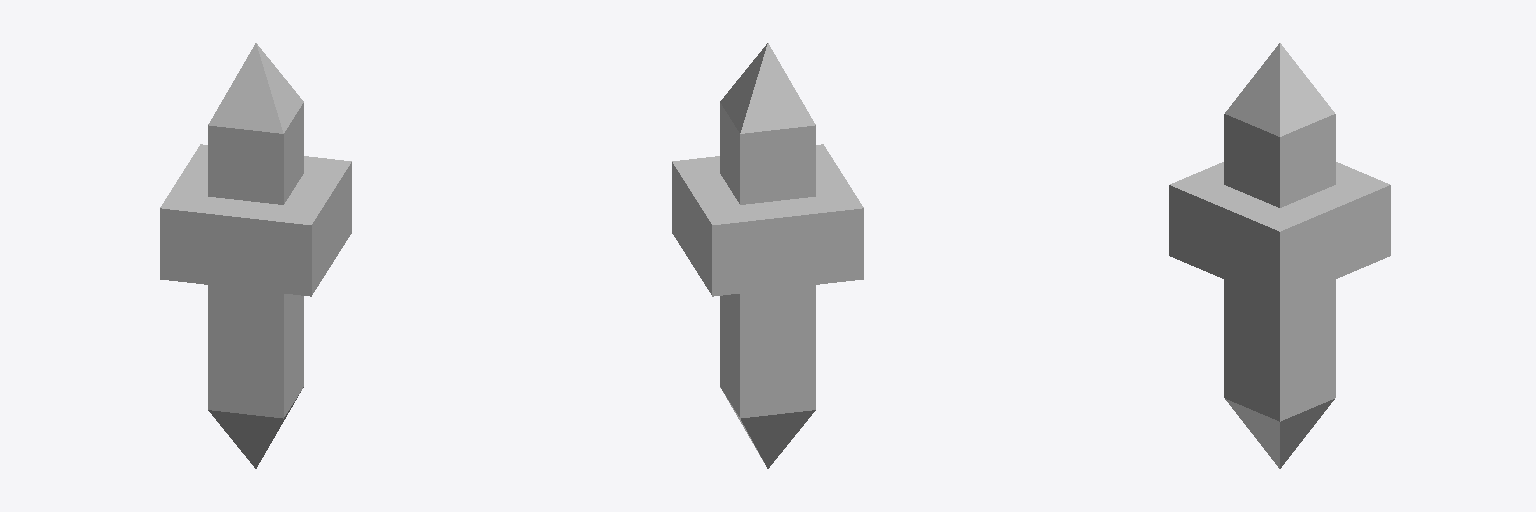
Rendered from variegator_limb_above.obj.
3 renders of one model, left to right at view 1: azimuth 30°, elevation 25°; view 2: azimuth 150°, elevation 25°; view 3: azimuth 270°, elevation 25°, orthographic.
Parts seen in each view (by area): view 1: VARIAGATOR_LIMB_UNCONNECTED_Cube.077; view 2: VARIAGATOR_LIMB_UNCONNECTED_Cube.077; view 3: VARIAGATOR_LIMB_UNCONNECTED_Cube.077.
Boxes of the visible parts, x1=… form: VARIAGATOR_LIMB_UNCONNECTED_Cube.077: x1=160, y1=43, x2=351, y2=468; VARIAGATOR_LIMB_UNCONNECTED_Cube.077: x1=672, y1=43, x2=863, y2=468; VARIAGATOR_LIMB_UNCONNECTED_Cube.077: x1=1169, y1=43, x2=1390, y2=468.
Bounding box in the file's own units: 0.1768 × 0.375 × 0.1768.